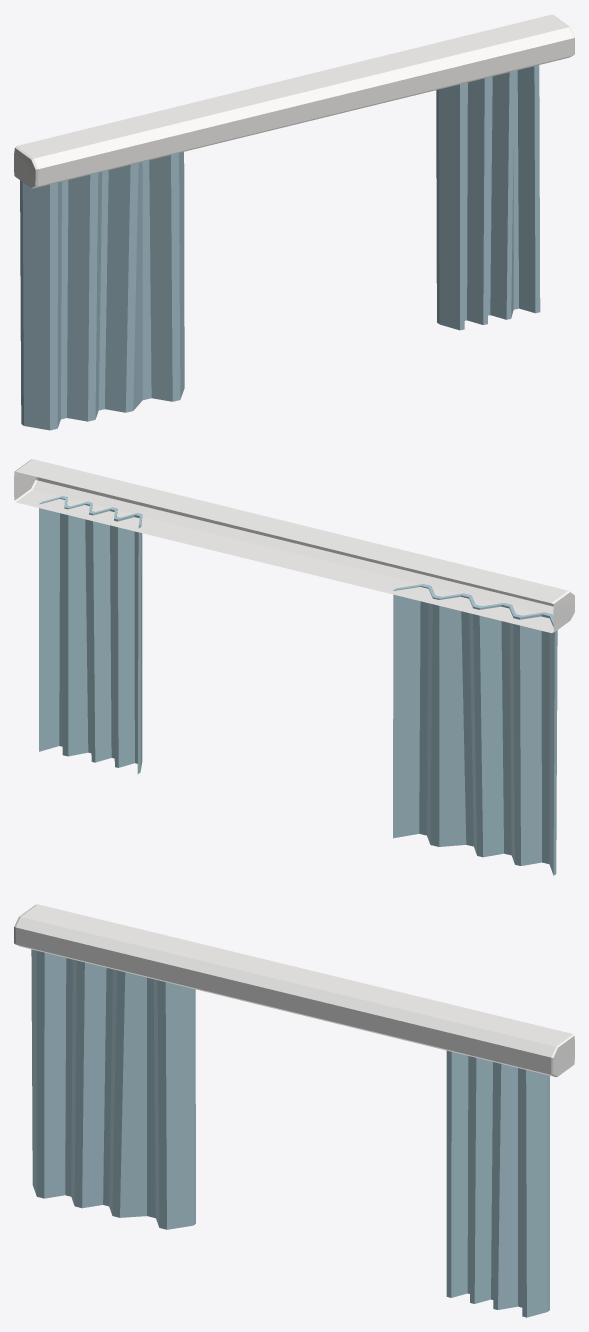
Rendered from Curtains_1_231109.glb.
3 renders of one model, top to bottom at view 1: azimuth 30°, elevation 25°; view 2: azimuth 150°, elevation 25°; view 3: azimuth 330°, elevation 25°, orthographic.
Parts seen in each view (by area): view 1: Curtains_1; view 2: Curtains_1; view 3: Curtains_1.
Part boxes in pixels (box(x1,y1,x2,y2)): Curtains_1: box(14, 14, 574, 430); Curtains_1: box(14, 459, 574, 875); Curtains_1: box(14, 904, 574, 1317).
Bounding box in the file's own units: 3.7 × 1.82 × 0.262.
1 material, 1 textured.
